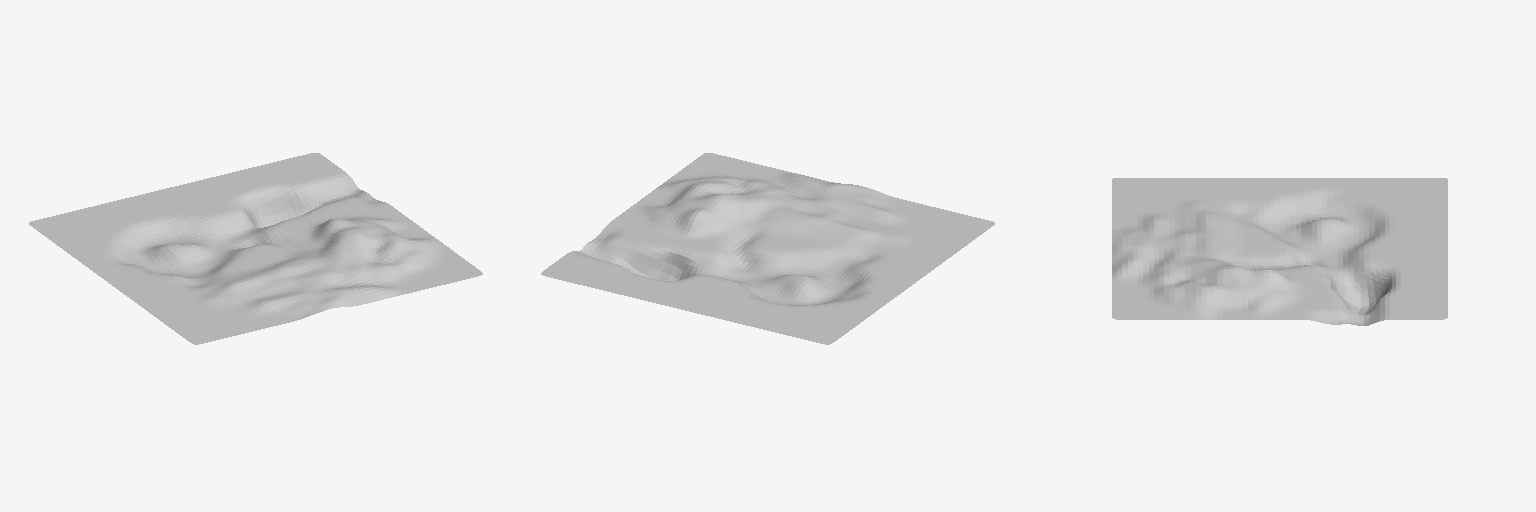
Rendered from lost coast.obj.
The picture shows the model from 3 angles: view 1: azimuth 30°, elevation 25°; view 2: azimuth 150°, elevation 25°; view 3: azimuth 270°, elevation 25°; orthographic projection.
Visible parts, largest first — view 1: ground_Plane; view 2: ground_Plane; view 3: ground_Plane.
Boxes of the visible parts, <box> form: ground_Plane: <box>29,153,482,344</box>; ground_Plane: <box>541,153,994,344</box>; ground_Plane: <box>1112,178,1447,325</box>.
Size of the model in its own units: 6 by 0.9308 by 6.